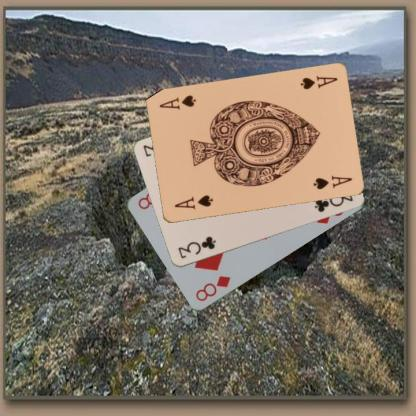3c: (175, 233, 217, 260)
8d: (192, 274, 232, 304)
As: (172, 192, 214, 211), (297, 74, 339, 92)
